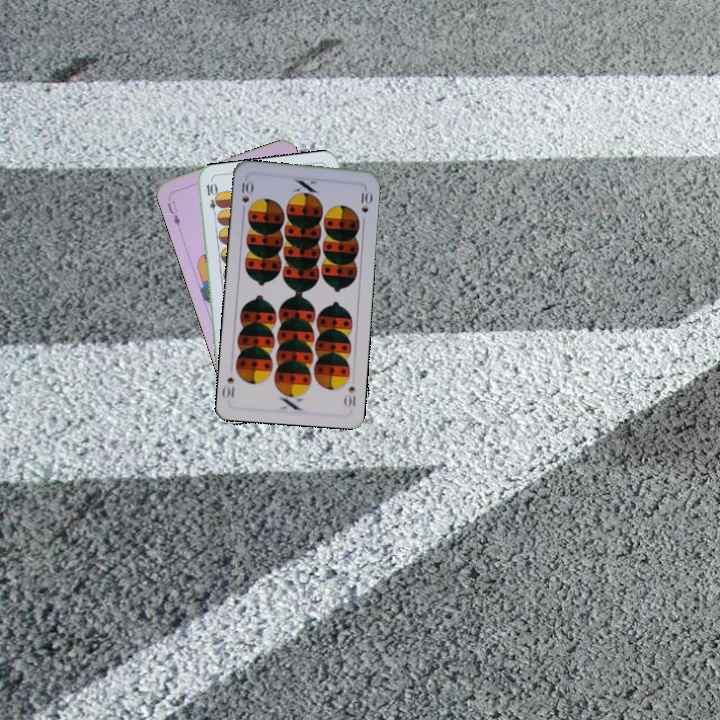E10: (202, 179, 220, 220)
EU: (163, 197, 183, 228)
S10: (238, 178, 255, 216), (340, 382, 358, 409)
